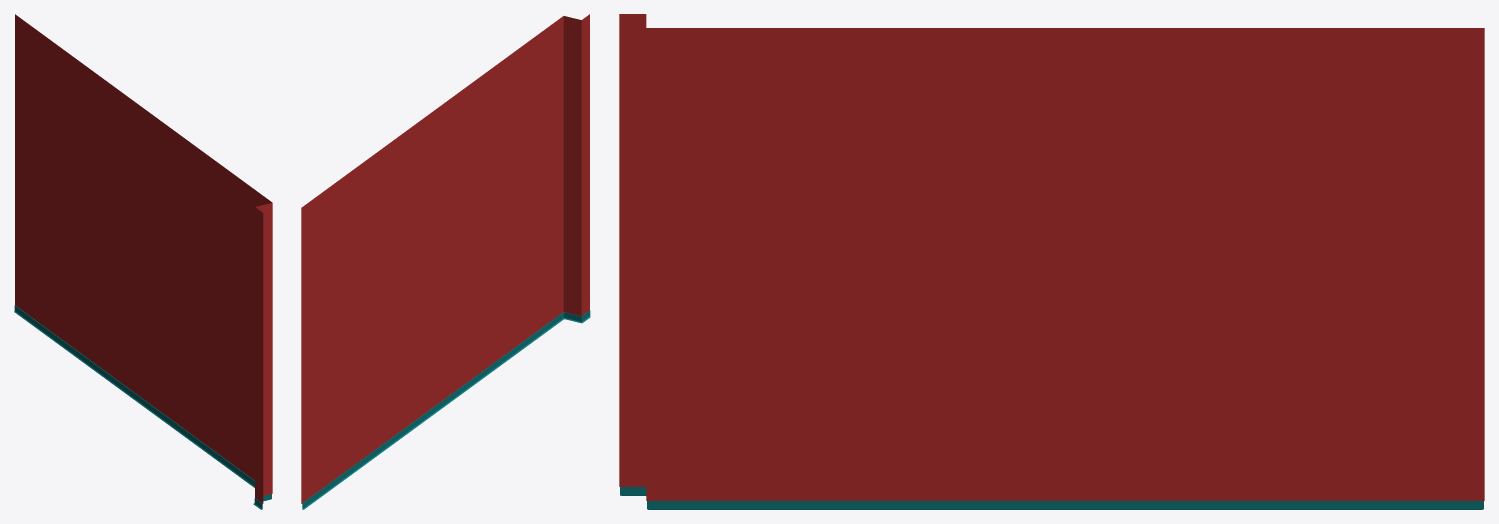
The model's file is Object059SM_Wall_02.fbx.
The picture shows the model from 3 angles, left to right: view 1: azimuth 30°, elevation 25°; view 2: azimuth 150°, elevation 25°; view 3: azimuth 270°, elevation 25°; orthographic projection. The views are drawn at different scales.
Parts seen in each view (by area): view 1: Object059SM_Wall_02; view 2: Object059SM_Wall_02; view 3: Object059SM_Wall_02.
Boxes of the visible parts, x1=… form: Object059SM_Wall_02: x1=14, y1=14, x2=272, y2=509; Object059SM_Wall_02: x1=301, y1=14, x2=590, y2=509; Object059SM_Wall_02: x1=619, y1=14, x2=1484, y2=509.
Size of the model in its own units: 20.46 by 306 by 497.
